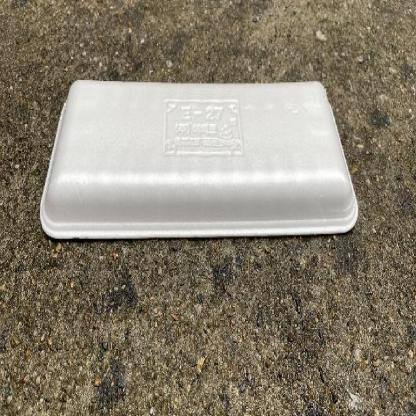Glass Cup: (39, 80, 359, 239), (40, 81, 359, 240)
